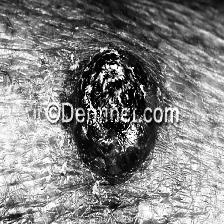Benign Marking or Mole: (74, 51, 148, 147)
